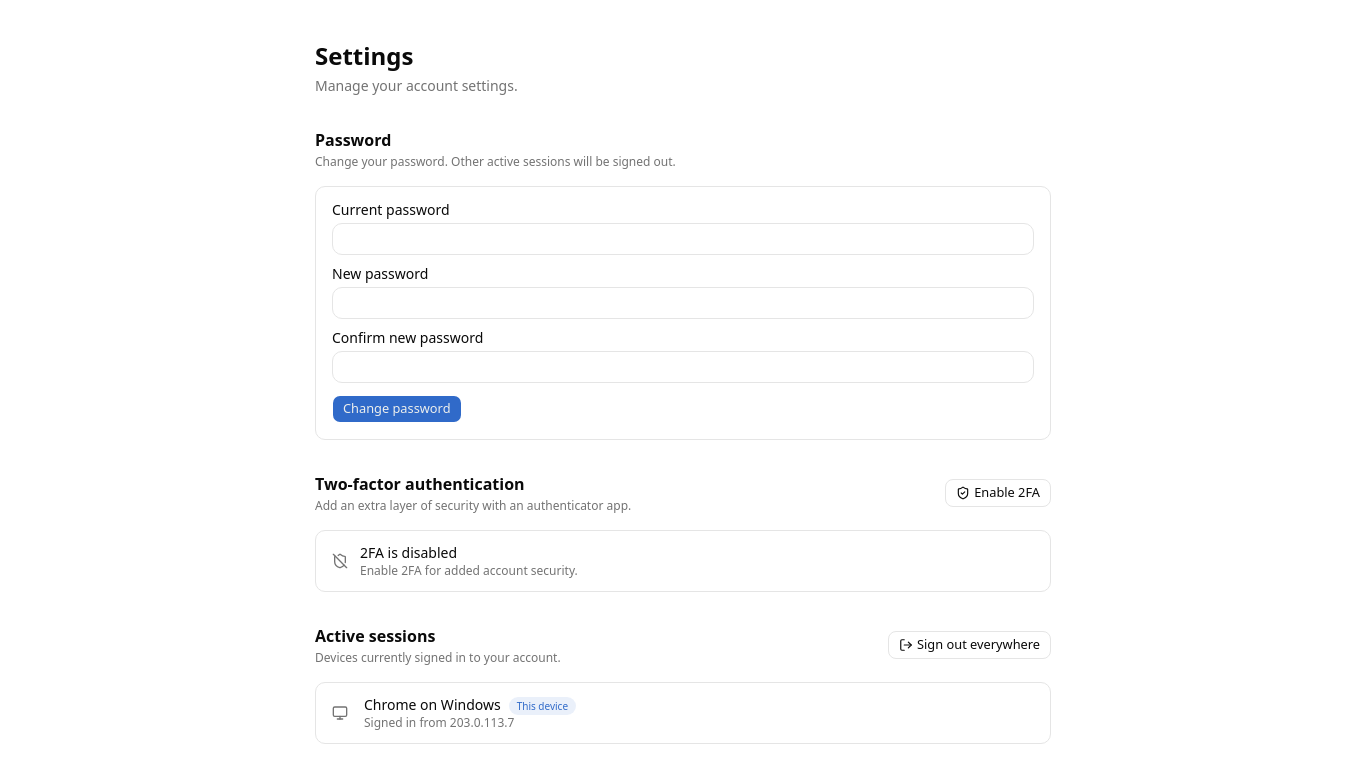
Test: warns that signing out everywhere includes this device
Click the button "Sign out everywhere": (970, 645) [888,631,1051,659]
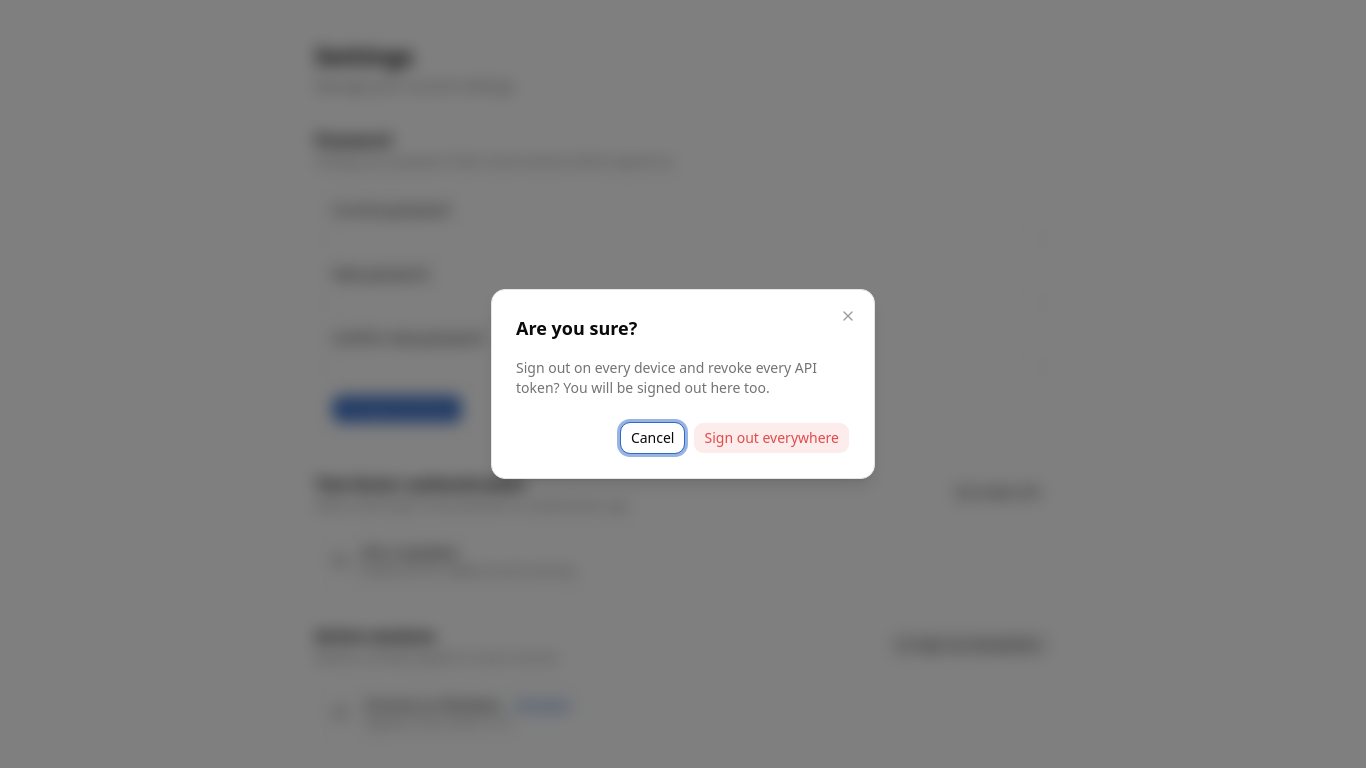
Result: the text "Sign out on every device and revoke every API token? You will be signed out here too." is shown at [516,358,817,397]
